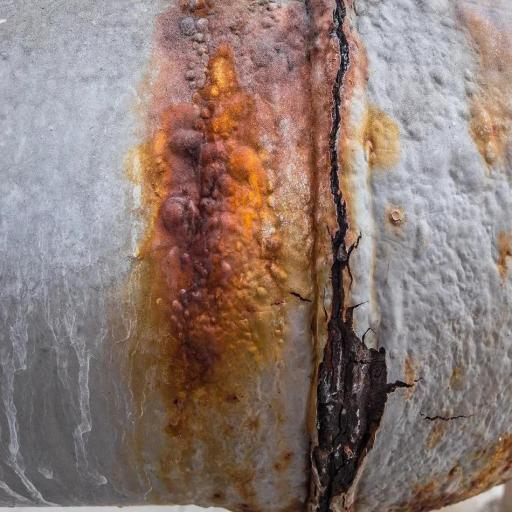segmentation: (112, 0, 405, 511), (310, 0, 412, 511)
